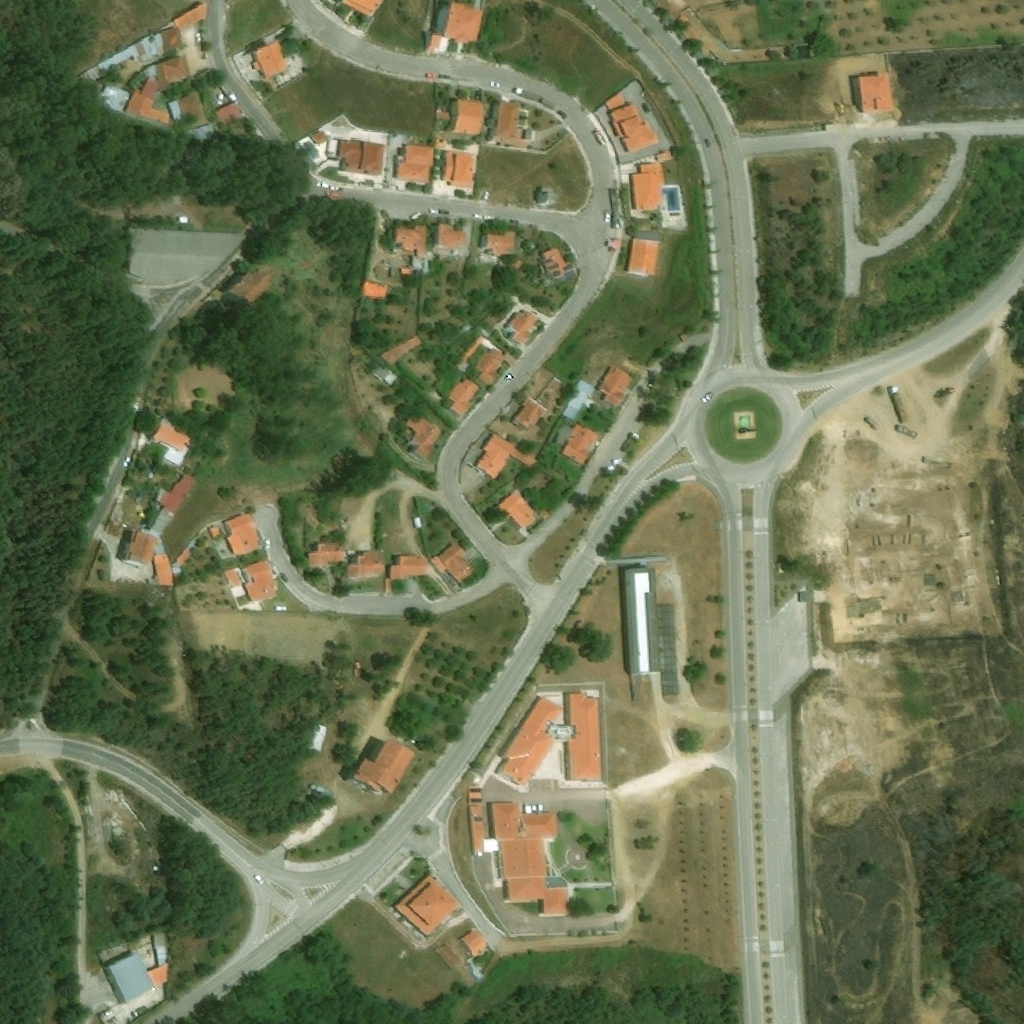0 no-damage: (492, 803, 571, 914), (125, 226, 241, 283), (501, 698, 562, 788), (391, 873, 462, 937), (624, 567, 662, 674), (354, 738, 419, 794), (605, 92, 661, 152), (475, 434, 543, 481), (226, 259, 280, 312), (83, 40, 149, 83), (568, 693, 600, 779), (110, 953, 157, 1004), (469, 789, 500, 853), (407, 413, 444, 461), (497, 491, 540, 531), (157, 473, 199, 512), (859, 70, 896, 114), (444, 2, 482, 44), (340, 140, 384, 176), (563, 423, 599, 467), (437, 542, 473, 585), (396, 144, 436, 182), (225, 513, 259, 557), (634, 163, 667, 208), (562, 379, 598, 420), (125, 92, 169, 125), (380, 333, 424, 365), (104, 954, 131, 1005), (600, 367, 634, 407), (245, 560, 277, 602), (250, 42, 288, 77), (447, 378, 481, 416), (396, 224, 432, 259), (475, 347, 506, 387), (629, 237, 660, 275), (515, 395, 547, 429), (445, 152, 475, 188), (455, 98, 485, 134), (157, 426, 192, 456), (93, 84, 130, 112), (512, 310, 542, 344), (172, 3, 206, 32), (543, 246, 574, 277), (130, 532, 160, 564), (367, 362, 401, 390), (309, 542, 346, 567), (348, 553, 386, 577), (391, 556, 426, 582), (458, 928, 489, 957), (433, 942, 464, 970), (498, 101, 522, 137), (438, 222, 469, 248), (151, 506, 177, 536), (158, 58, 187, 83), (212, 104, 241, 129), (341, 0, 381, 18), (305, 721, 328, 752), (185, 126, 221, 145), (490, 230, 519, 253), (432, 2, 451, 37), (146, 63, 167, 93), (155, 554, 174, 587), (178, 94, 203, 119), (544, 722, 577, 740), (360, 279, 388, 300), (300, 137, 324, 161), (552, 422, 573, 448), (159, 28, 181, 50), (852, 74, 864, 114), (425, 33, 447, 53), (634, 229, 665, 243), (153, 934, 167, 965), (167, 100, 184, 124), (175, 547, 195, 567), (149, 966, 169, 986), (539, 186, 558, 206), (150, 32, 166, 55), (141, 81, 160, 99), (224, 568, 242, 587), (431, 556, 448, 575), (450, 98, 459, 131), (391, 133, 416, 143), (312, 130, 328, 145), (512, 418, 529, 432), (656, 150, 675, 162), (537, 508, 551, 522), (170, 561, 183, 575), (311, 784, 326, 794), (354, 661, 362, 678), (209, 527, 221, 538), (242, 567, 250, 583), (401, 267, 415, 276), (483, 233, 490, 250), (437, 112, 450, 121), (525, 128, 534, 139), (225, 521, 232, 535), (525, 229, 535, 238), (385, 578, 390, 593), (180, 216, 189, 223), (545, 265, 550, 277)
4 un-classified: (444, 320, 476, 348), (817, 105, 828, 113)
